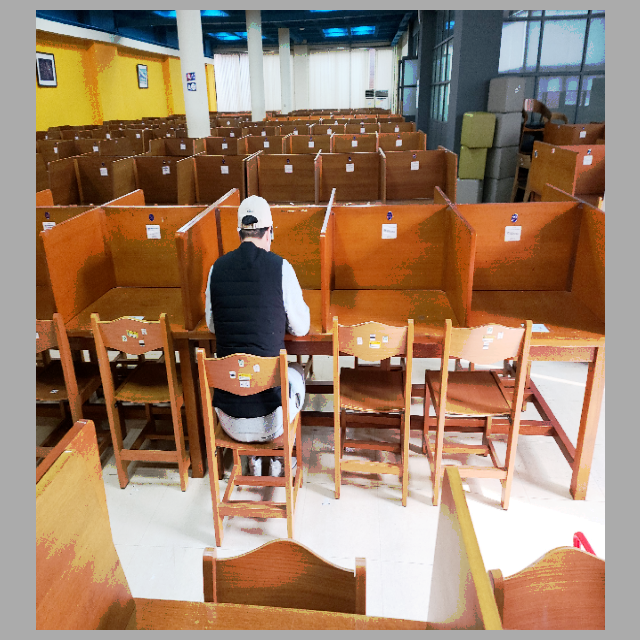empty: (329, 220, 463, 432), (478, 203, 604, 414)
full: (182, 195, 325, 438)
